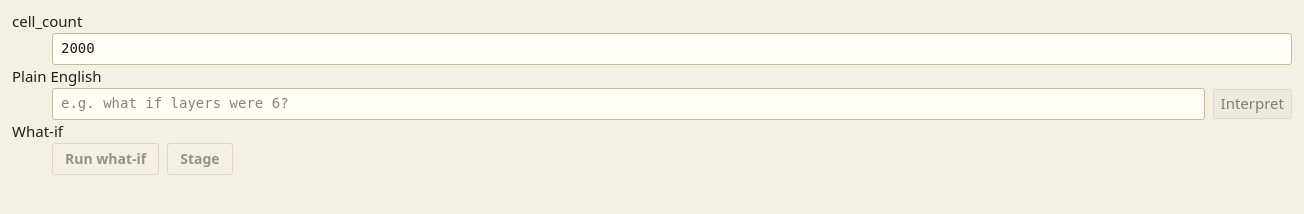
Test case: WhatIfEditor › interprets plain English into the settings form
Step 1. Type "what if cell_count were 5000?" into the field named "Describe the change in plain English" → (628, 104), box [52, 88, 1205, 120]
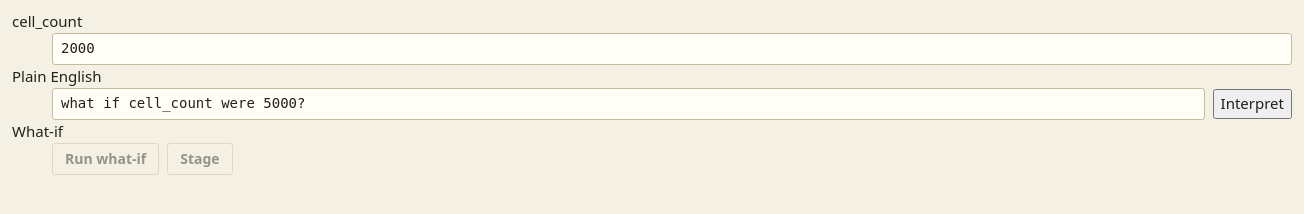
Step 2. Click the button "Interpret" → (1252, 104), box [1213, 89, 1292, 119]
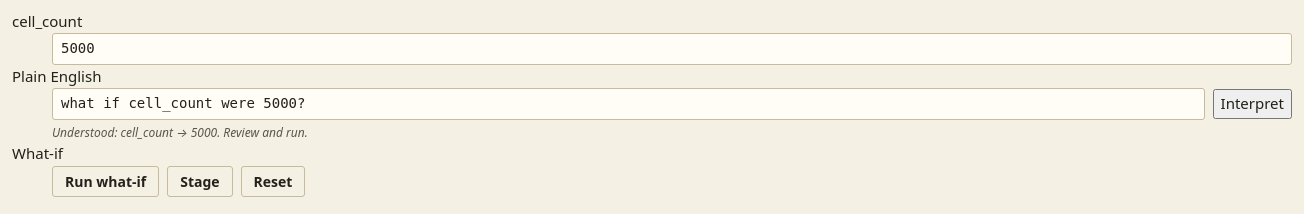
Now the text "Understood: cell_count → 5000. Review and run." is shown, box [52, 124, 308, 141]
Now the field named "cell_count" holds "5000", box [52, 33, 1292, 65]
Now the button "Run what-if" is enabled, box [52, 166, 159, 197]
